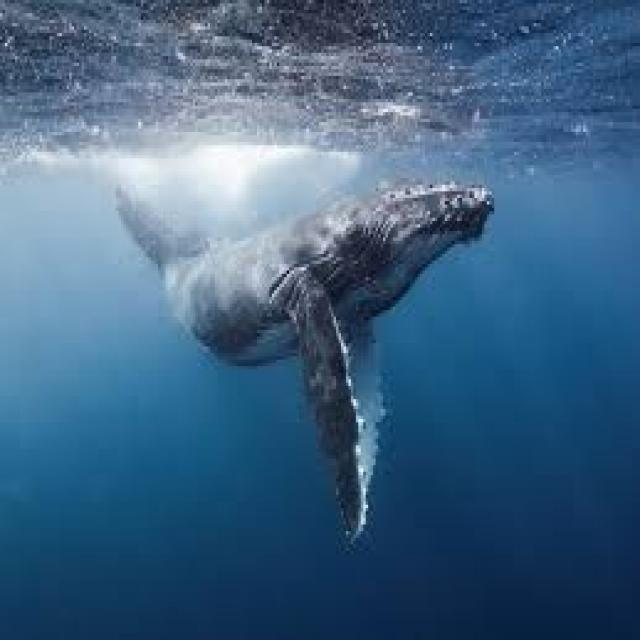blue_whale: (51, 132, 512, 590)
